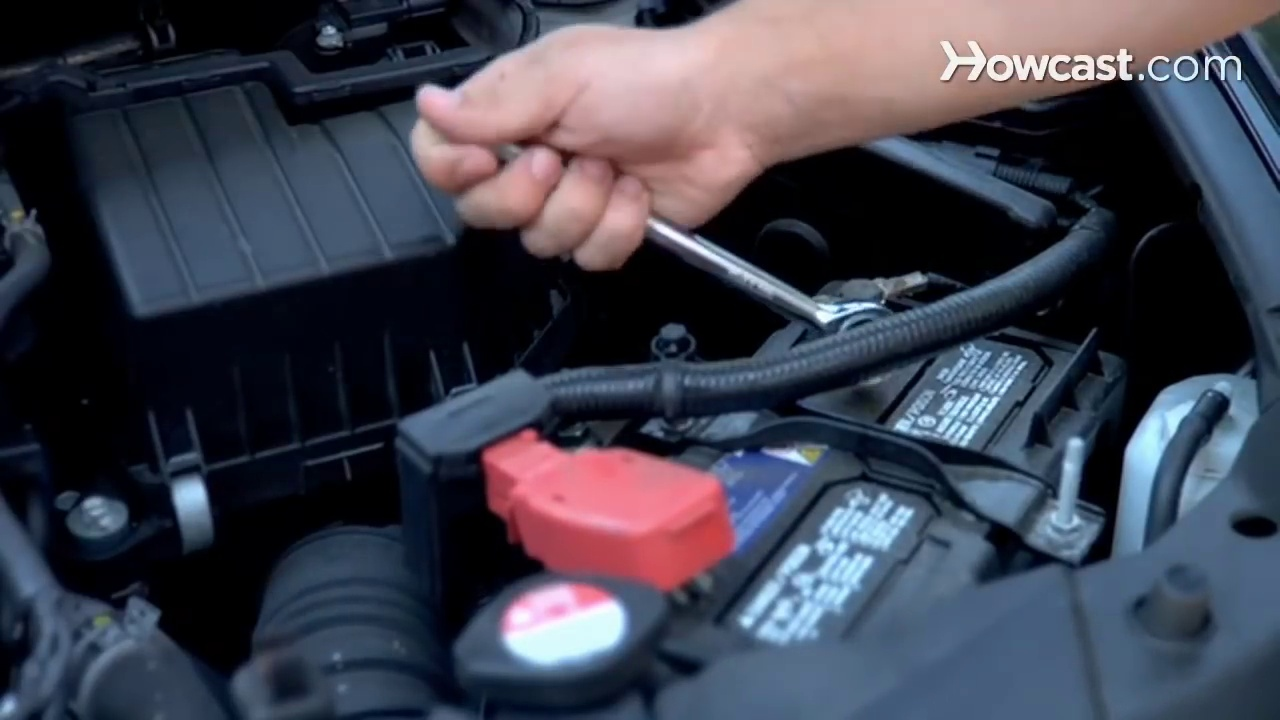battery: (503, 291, 1136, 646)
pos_connected: (481, 422, 747, 591)
